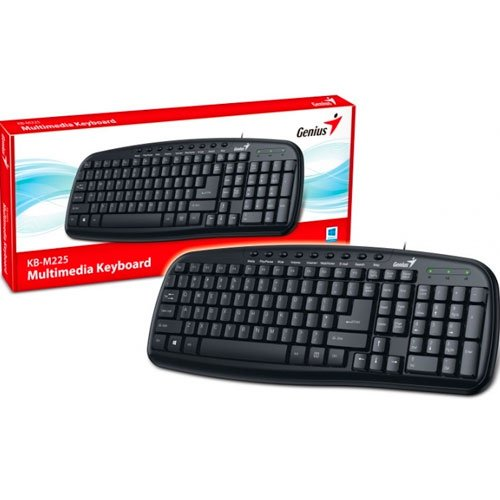Teclado: (140, 241, 500, 401), (62, 135, 308, 242)
